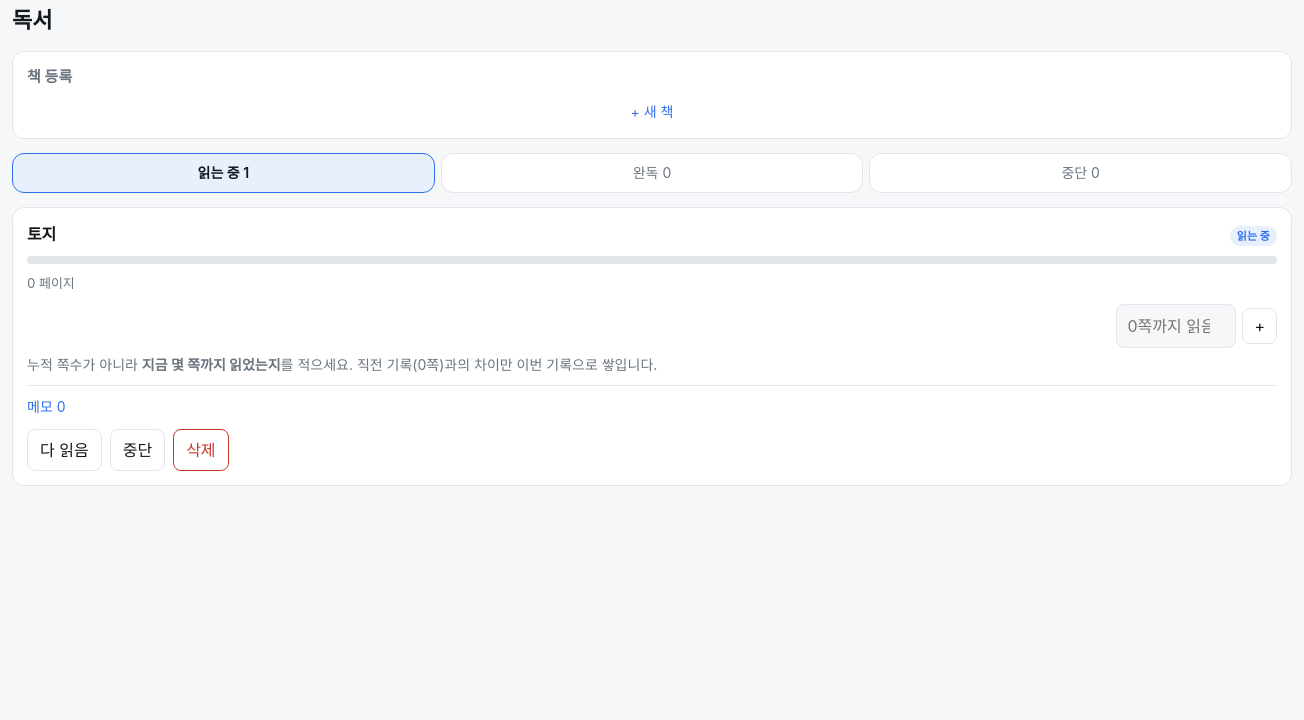
책에 붙은 메모 › 메모가 없으면 안내를 보여준다
Step 1. Click the button "메모 0" → (46, 406), box [27,394,66,418]
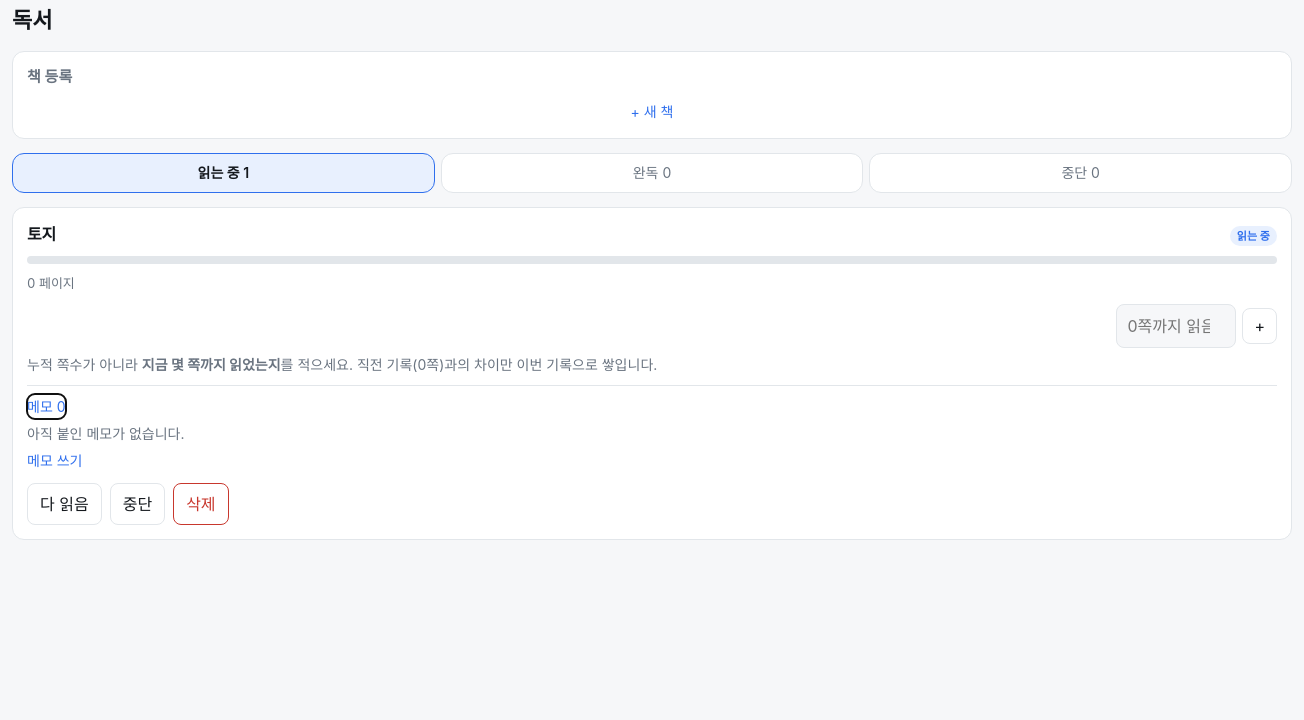
Check: the text "아직 붙인 메모가 없습니다." is shown, box [27,422,184,444]
